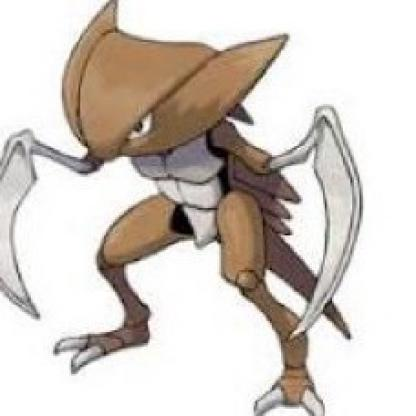Kabutops: (1, 1, 377, 415)
